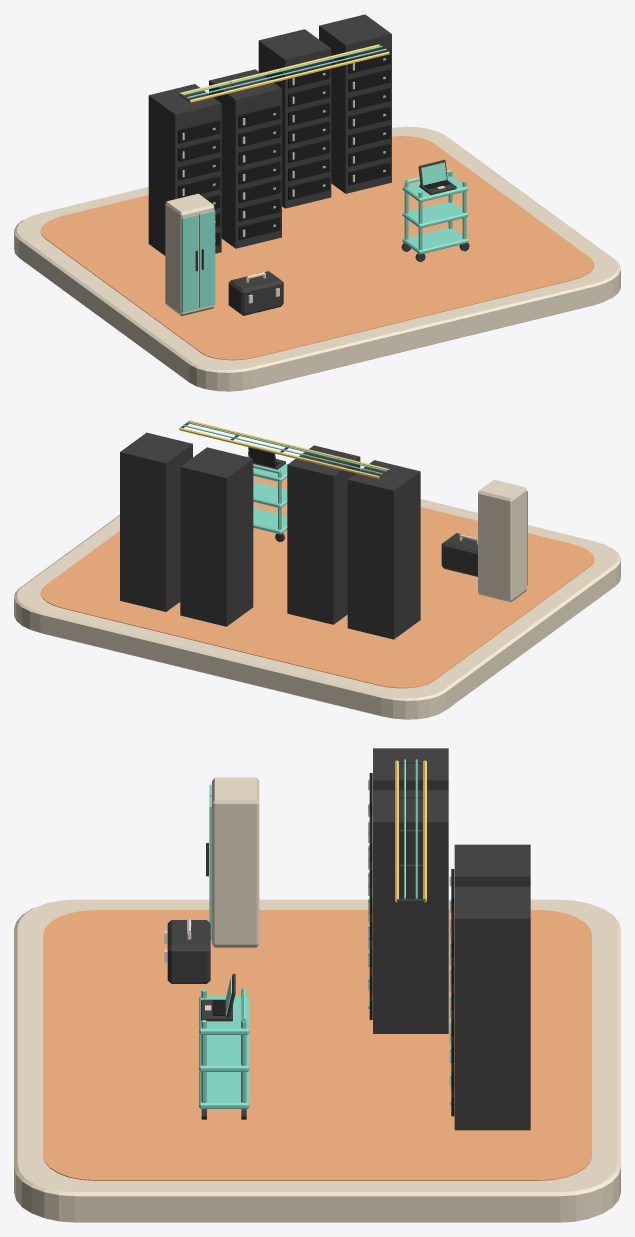
The picture shows the model from 3 angles, top to bottom: view 1: azimuth 30°, elevation 25°; view 2: azimuth 150°, elevation 25°; view 3: azimuth 270°, elevation 25°; orthographic projection. The views are drawn at different scales.
Parts seen in each view (by area): view 1: COM-02 Floor Surface, COM-01 Rounded Base Direct, Server case, Server case.003, Server case.001, Server case.002, Equipment case, Case, Door, Door.001, Tray, Tray.001 (+26 smaller); view 2: COM-02 Floor Surface, COM-01 Rounded Base Direct, Server case.002, Server case, Server case.003, Server case.001, Equipment case, Case, Cable rail.001, Tray, Tray.001, Cable rail (+2 smaller); view 3: COM-02 Floor Surface, COM-01 Rounded Base Direct, Server case.003, Server case.001, Equipment case, Server case.002, Server case, Case, Tray.001, Tray, Tray.002.
Part boxes in pixels (box(x1,y1,x2,y2)): COM-02 Floor Surface: box(40, 136, 594, 360); COM-01 Rounded Base Direct: box(14, 126, 620, 391); Server case: box(148, 84, 221, 255); Server case.003: box(319, 14, 391, 193); Server case.001: box(209, 69, 281, 248); Server case.002: box(258, 29, 331, 208); Equipment case: box(165, 193, 214, 316); Case: box(228, 271, 283, 315); Door: box(182, 214, 198, 312); Door.001: box(199, 210, 215, 308); Tray: box(402, 227, 468, 254); Tray.001: box(402, 201, 468, 228); COM-02 Floor Surface: box(40, 476, 594, 688); COM-01 Rounded Base Direct: box(14, 456, 620, 719); Server case.002: box(180, 447, 253, 626); Server case: box(347, 460, 420, 639); Server case.003: box(120, 432, 192, 611); Server case.001: box(287, 445, 360, 624); Equipment case: box(478, 479, 526, 602); Case: box(441, 533, 477, 576); Cable rail.001: box(179, 427, 379, 478); Tray: box(253, 508, 287, 534); Tray.001: box(253, 482, 287, 508); Cable rail: box(189, 420, 389, 470); COM-02 Floor Surface: box(43, 910, 591, 1180); COM-01 Rounded Base Direct: box(14, 899, 620, 1222); Server case.003: box(454, 886, 530, 1130); Server case.001: box(373, 790, 448, 1033); Equipment case: box(212, 777, 259, 947); Server case.002: box(454, 844, 530, 886); Server case: box(373, 748, 448, 790); Case: box(167, 920, 210, 983); Tray.001: box(199, 1034, 249, 1071); Tray: box(199, 1071, 249, 1108); Tray.002: box(199, 996, 249, 1034).
Bounding box in the file's own units: 6 × 2.35 × 5.2.
Materials: 1 (1 with a texture image).
